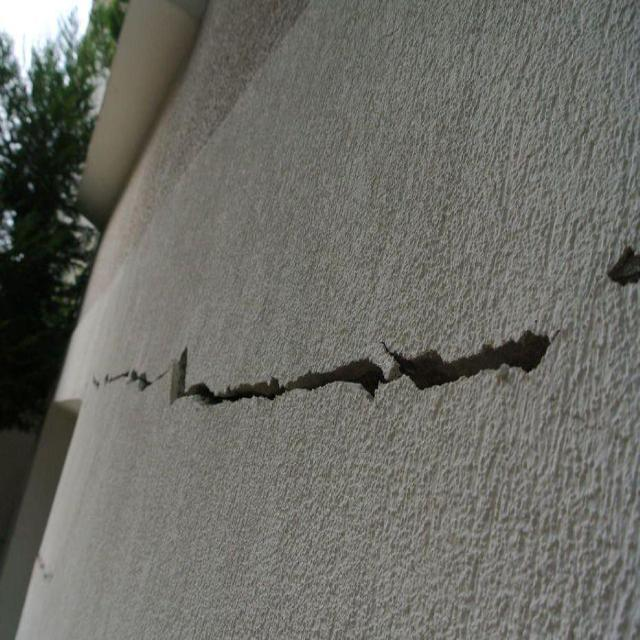crack: (104, 329, 551, 404), (605, 244, 639, 289)
